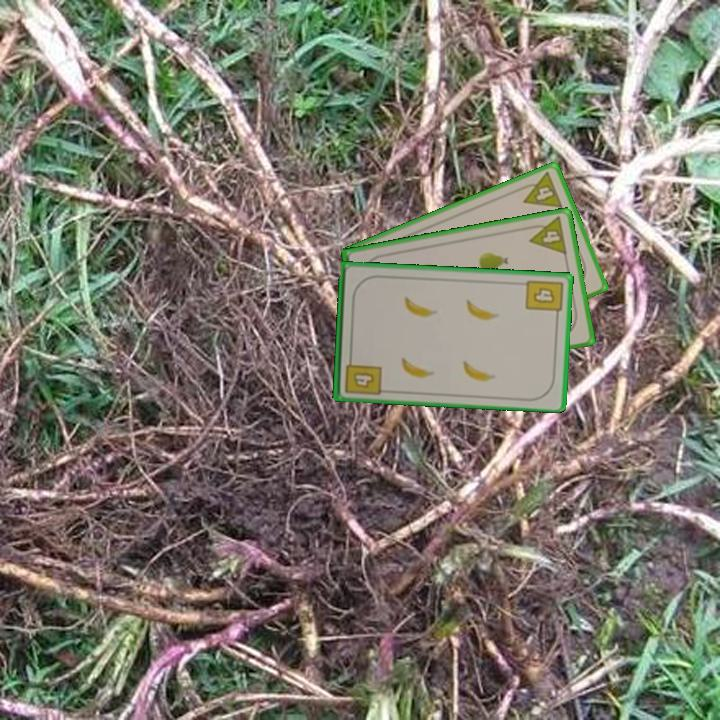4b: (341, 352, 384, 398), (522, 276, 565, 321)
4p: (515, 169, 566, 211), (524, 213, 570, 257)
